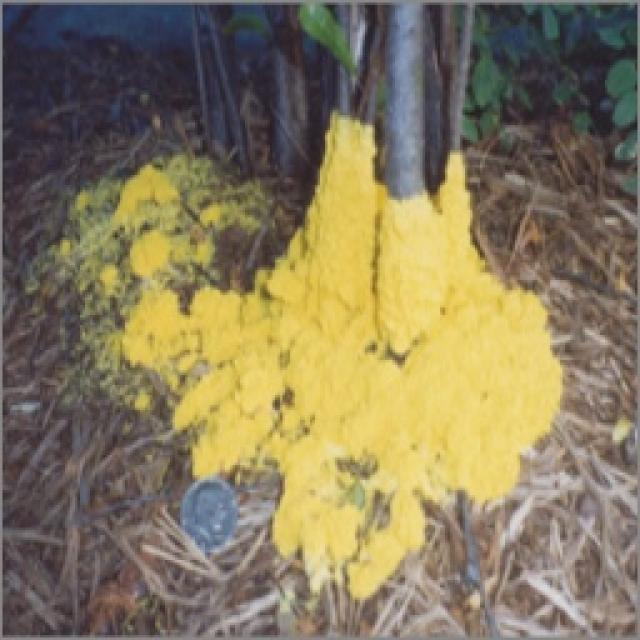Dog_vomit_slime_mold: (71, 116, 593, 600)
